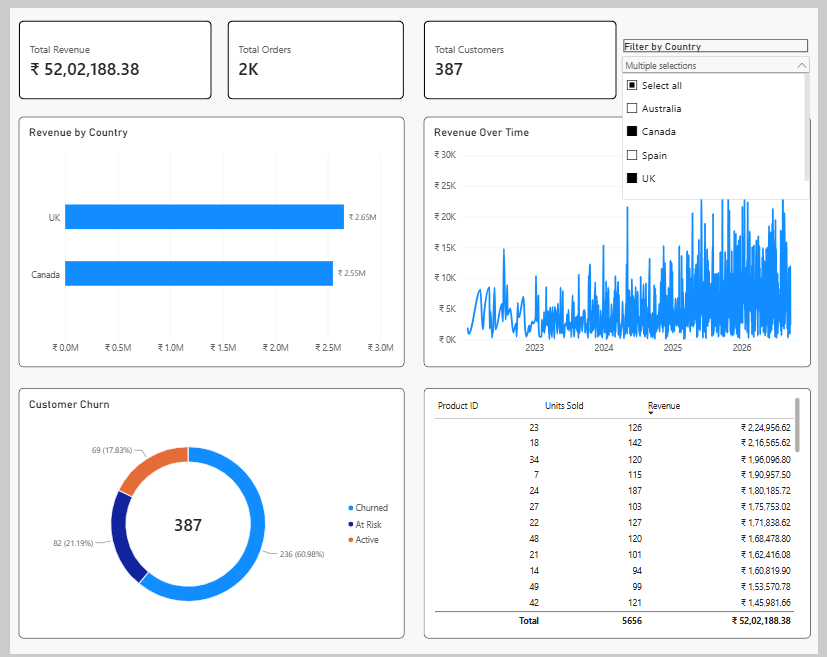

The page's visual inventory and layout, read from the dashboard file:
{"tool":"powerbi","page":{"name":"Page 1","canvas":[1320,1055],"ordinal":0},"visuals":[{"type":"cardVisual","fields":{"Data":["Sum(ecommerce_db vw_ecommerce_powerbi.order_total_value)"]},"box":[13.6,20.5,315.9,129.5],"z":0},{"type":"cardVisual","fields":{"Data":["Count(ecommerce_db vw_ecommerce_powerbi.order_id)"]},"box":[354.5,20.5,288.6,129.5],"z":1000},{"type":"cardVisual","fields":{"Data":["Count(ecommerce_db vw_ecommerce_powerbi.customer_id)"]},"box":[675,20.5,315.9,129.5],"z":2000},{"type":"clusteredBarChart","title":"Revenue by Country ","fields":{"Category":["ecommerce_db vw_ecommerce_powerbi.country"],"Y":["Sum(ecommerce_db vw_ecommerce_powerbi.order_total_value)"]},"box":[13.6,177.3,629.5,409.1],"z":3000},{"type":"lineChart","title":"Revenue Over Time ","fields":{"Category":["ecommerce_db vw_ecommerce_powerbi.order_date"],"Y":["Sum(ecommerce_db vw_ecommerce_powerbi.order_total_value)"]},"box":[675,177.3,631.8,409.1],"z":4000},{"type":"donutChart","title":"Customer Churn","fields":{"Category":["ecommerce_db vw_ecommerce_powerbi.churn_status"],"Y":["Count(ecommerce_db vw_ecommerce_powerbi.customer_id)"]},"box":[13.6,620.5,629.5,409.1],"z":4001},{"type":"tableEx","fields":{"Values":["ecommerce_db vw_ecommerce_powerbi.product_id","Sum(ecommerce_db vw_ecommerce_powerbi.quantity)","Sum(ecommerce_db vw_ecommerce_powerbi.order_total_value)"]},"box":[675,620.5,631.8,409.1],"z":4002},{"type":"slicer","fields":{"Values":["ecommerce_db vw_ecommerce_powerbi.country"]},"box":[992.9,50,316.7,71.4],"z":4003}]}

Visuals, with their boxes in screenshot pixels (x1, y1, x2, y2), scaled from the page's 1320x1055 canvas onto the 827x657 screenshot:
cardVisual - Sum(ecommerce_db vw_ecommerce_powerbi.order_total_value): left=9, top=13, right=206, bottom=93
cardVisual - Count(ecommerce_db vw_ecommerce_powerbi.order_id): left=222, top=13, right=403, bottom=93
cardVisual - Count(ecommerce_db vw_ecommerce_powerbi.customer_id): left=423, top=13, right=621, bottom=93
"Revenue by Country " clusteredBarChart: left=9, top=110, right=403, bottom=365
"Revenue Over Time " lineChart: left=423, top=110, right=819, bottom=365
"Customer Churn" donutChart: left=9, top=386, right=403, bottom=641
tableEx - ecommerce_db vw_ecommerce_powerbi.product_id x Sum(ecommerce_db vw_ecommerce_powerbi.quantity): left=423, top=386, right=819, bottom=641
slicer - ecommerce_db vw_ecommerce_powerbi.country: left=622, top=31, right=820, bottom=76
